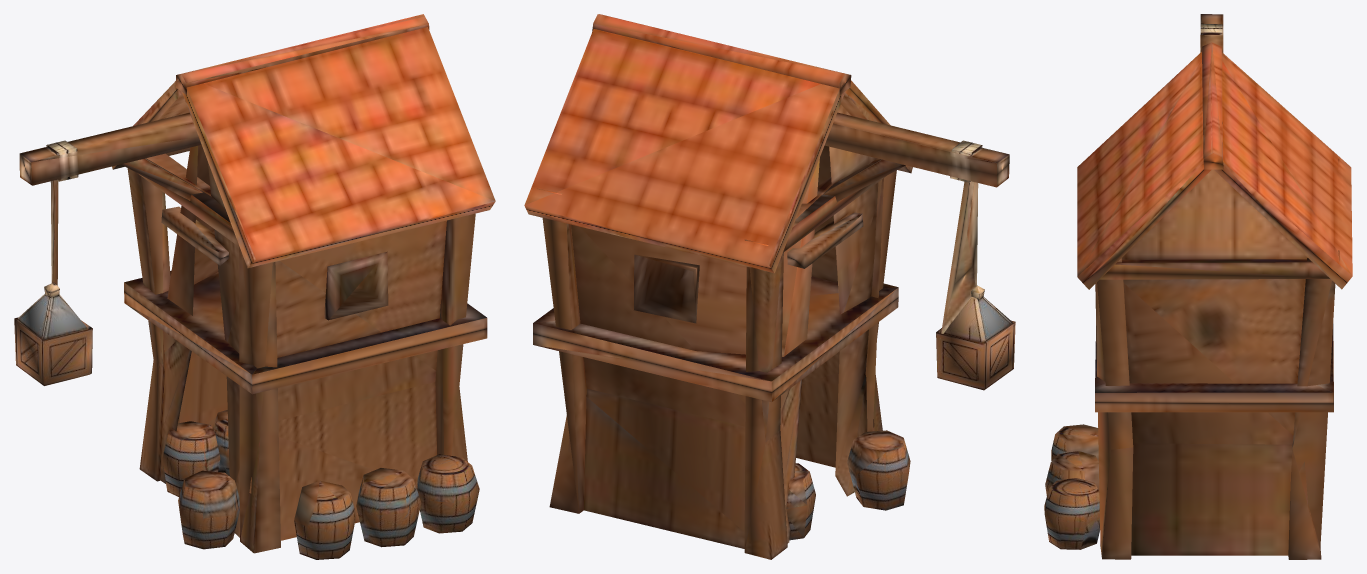
3 renders of one model, left to right at view 1: azimuth 30°, elevation 25°; view 2: azimuth 150°, elevation 25°; view 3: azimuth 270°, elevation 25°, orthographic. The views are drawn at different scales.
Visible parts, largest first — view 1: supply; view 2: supply; view 3: supply.
Boxes of the visible parts, bbox=[...] form: supply: bbox=[14, 14, 495, 559]; supply: bbox=[524, 14, 1015, 559]; supply: bbox=[1044, 14, 1352, 559].
Bounding box in the file's own units: 0.9 × 0.9479 × 0.6437.
Materials: 1 (1 with a texture image).
